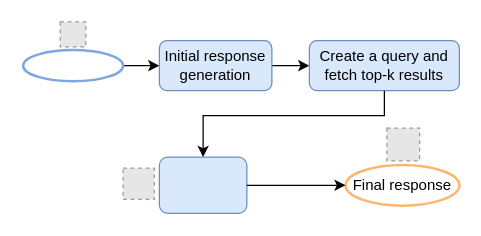
This 481x236 diagram has some shape labels left out. Grey dashed boxes stand in for pictures. The shapes that lost their labels are listed below. From the top down, each one's box as (x1, y1, x2, y2) in pixels, then its label:
(21, 48, 124, 82): User query
(158, 156, 247, 213): Draft a revised response
